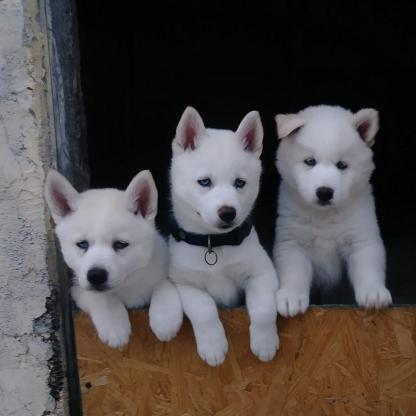husky: (168, 100, 276, 366), (37, 166, 183, 355), (278, 99, 390, 319)
